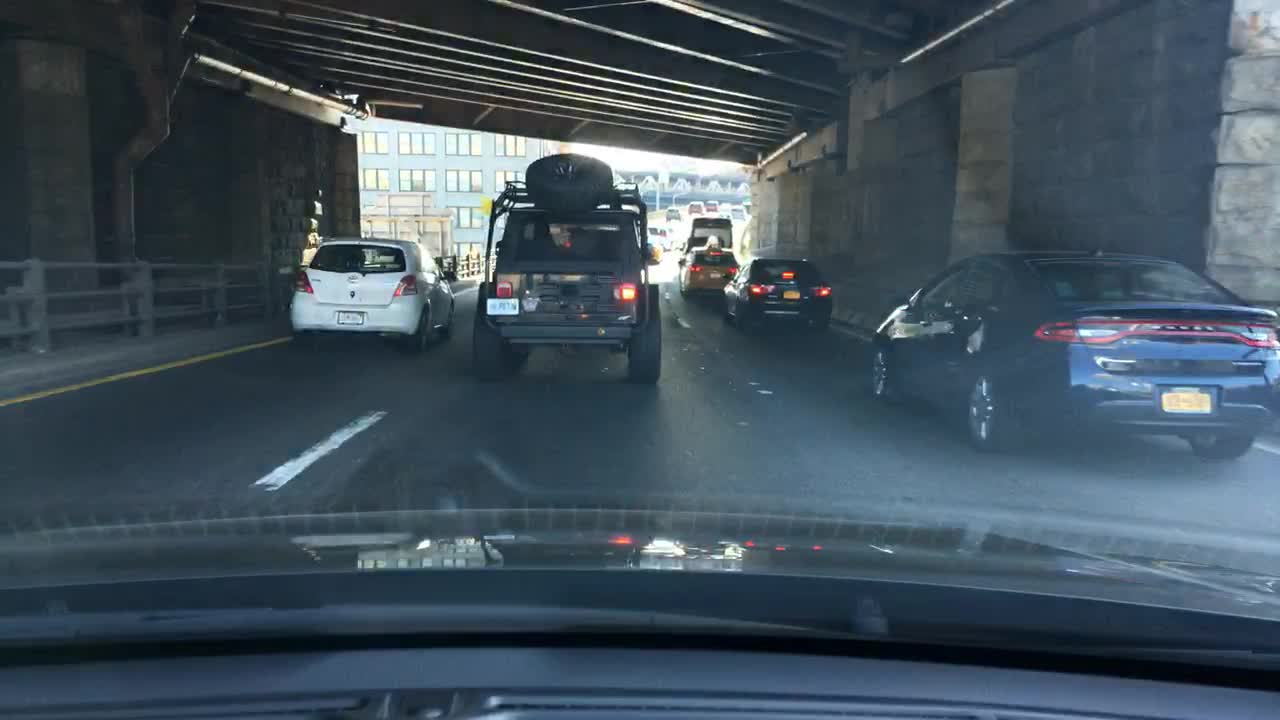car: (869, 245, 1278, 462), (284, 236, 457, 357), (721, 258, 832, 334), (679, 235, 739, 297), (649, 226, 674, 251), (664, 205, 682, 221), (688, 200, 705, 212), (706, 197, 720, 210)
truck: (468, 154, 665, 385), (688, 218, 736, 250)
